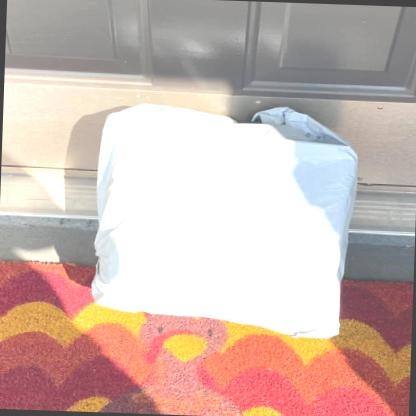plastic_bag: (94, 100, 360, 343)
